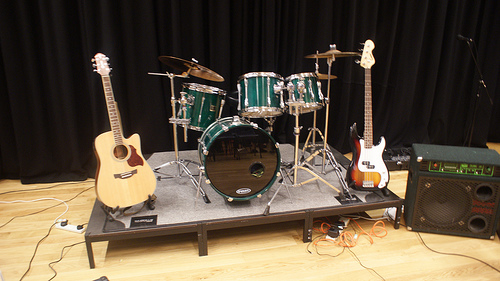guitar: (85, 53, 158, 209)
